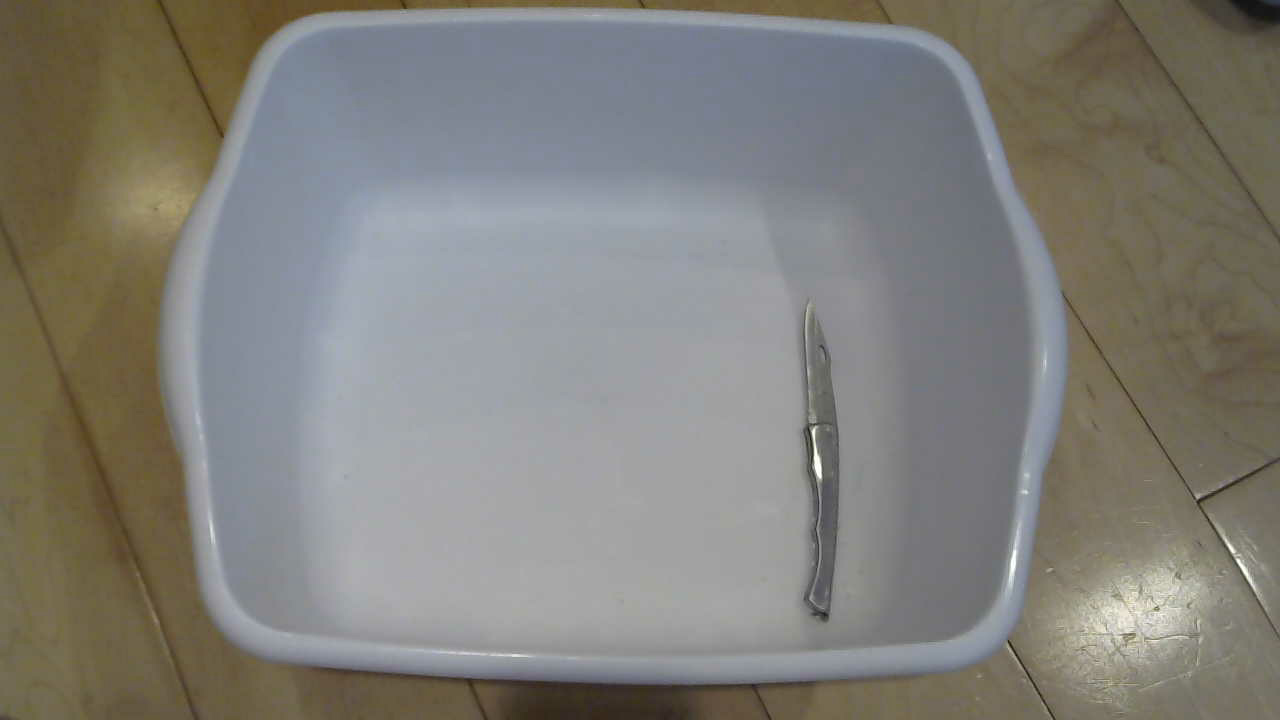knife: (758, 304, 877, 636)
